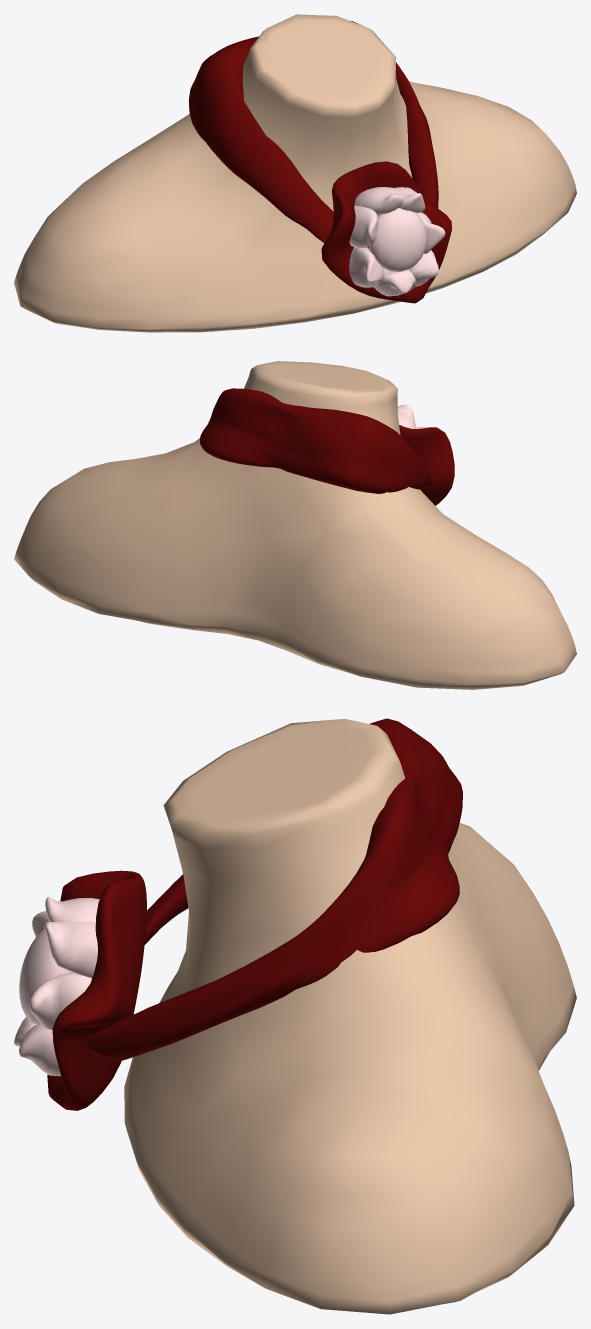
The picture shows the model from 3 angles, top to bottom: view 1: azimuth 30°, elevation 25°; view 2: azimuth 150°, elevation 25°; view 3: azimuth 270°, elevation 25°; orthographic projection. The views are drawn at different scales.
Visible parts, largest first — view 1: Obj_Avatar_Shape (×3); view 2: Obj_Avatar_Shape (×2); view 3: Obj_Avatar_Shape (×3).
Part boxes in pixels (bbox=[...]): Obj_Avatar_Shape (×3): bbox=[14, 14, 576, 332]; Obj_Avatar_Shape (×2): bbox=[14, 361, 576, 689]; Obj_Avatar_Shape (×3): bbox=[14, 718, 576, 1314].
Size of the model in its own units: 847 by 345 by 477.
